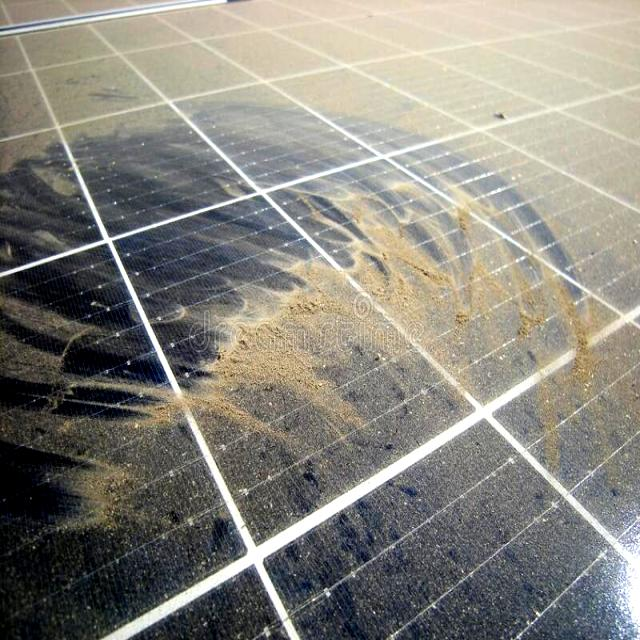dust: (0, 278, 157, 612), (0, 1, 235, 180), (266, 0, 501, 159), (190, 455, 378, 640), (202, 266, 356, 442), (505, 254, 640, 454), (388, 463, 514, 640), (514, 0, 622, 174), (369, 194, 492, 316)
